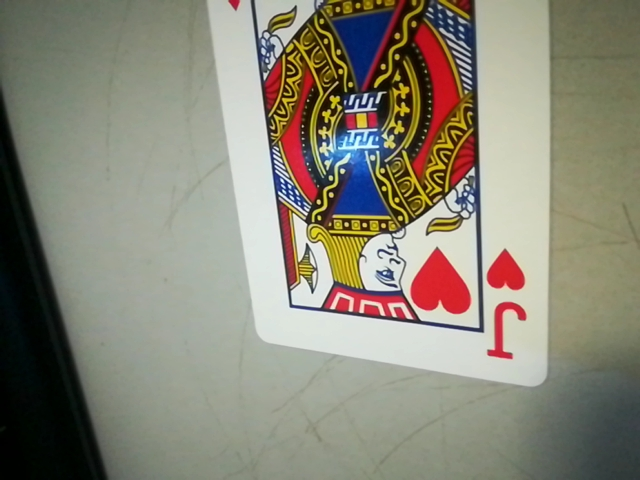hx j: (477, 242, 539, 368)
